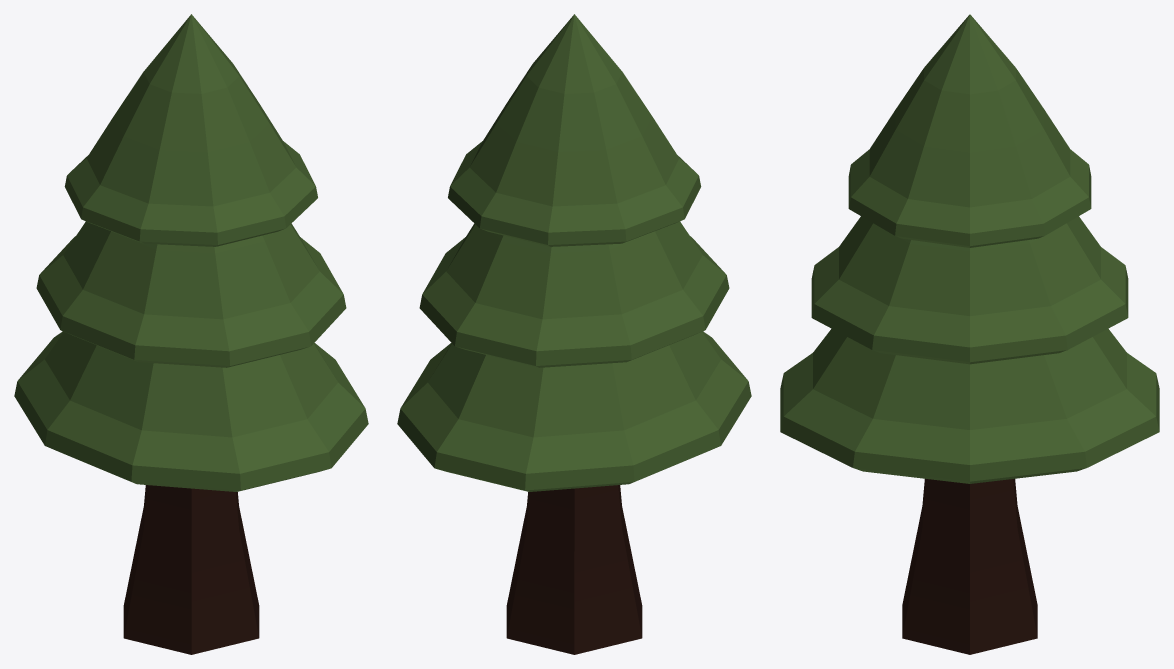
Rendered from Tree 3.fbx.
3 renders of one model, left to right at view 1: azimuth 30°, elevation 25°; view 2: azimuth 150°, elevation 25°; view 3: azimuth 270°, elevation 25°, orthographic.
Visible parts, largest first — view 1: TreeFir_1; view 2: TreeFir_1; view 3: TreeFir_1.
Boxes of the visible parts, bbox=[...] form: TreeFir_1: bbox=[14, 14, 368, 654]; TreeFir_1: bbox=[397, 14, 751, 654]; TreeFir_1: bbox=[780, 14, 1159, 654].
Size of the model in its own units: 425 by 843 by 476.
Materials: 1 (1 with a texture image).
